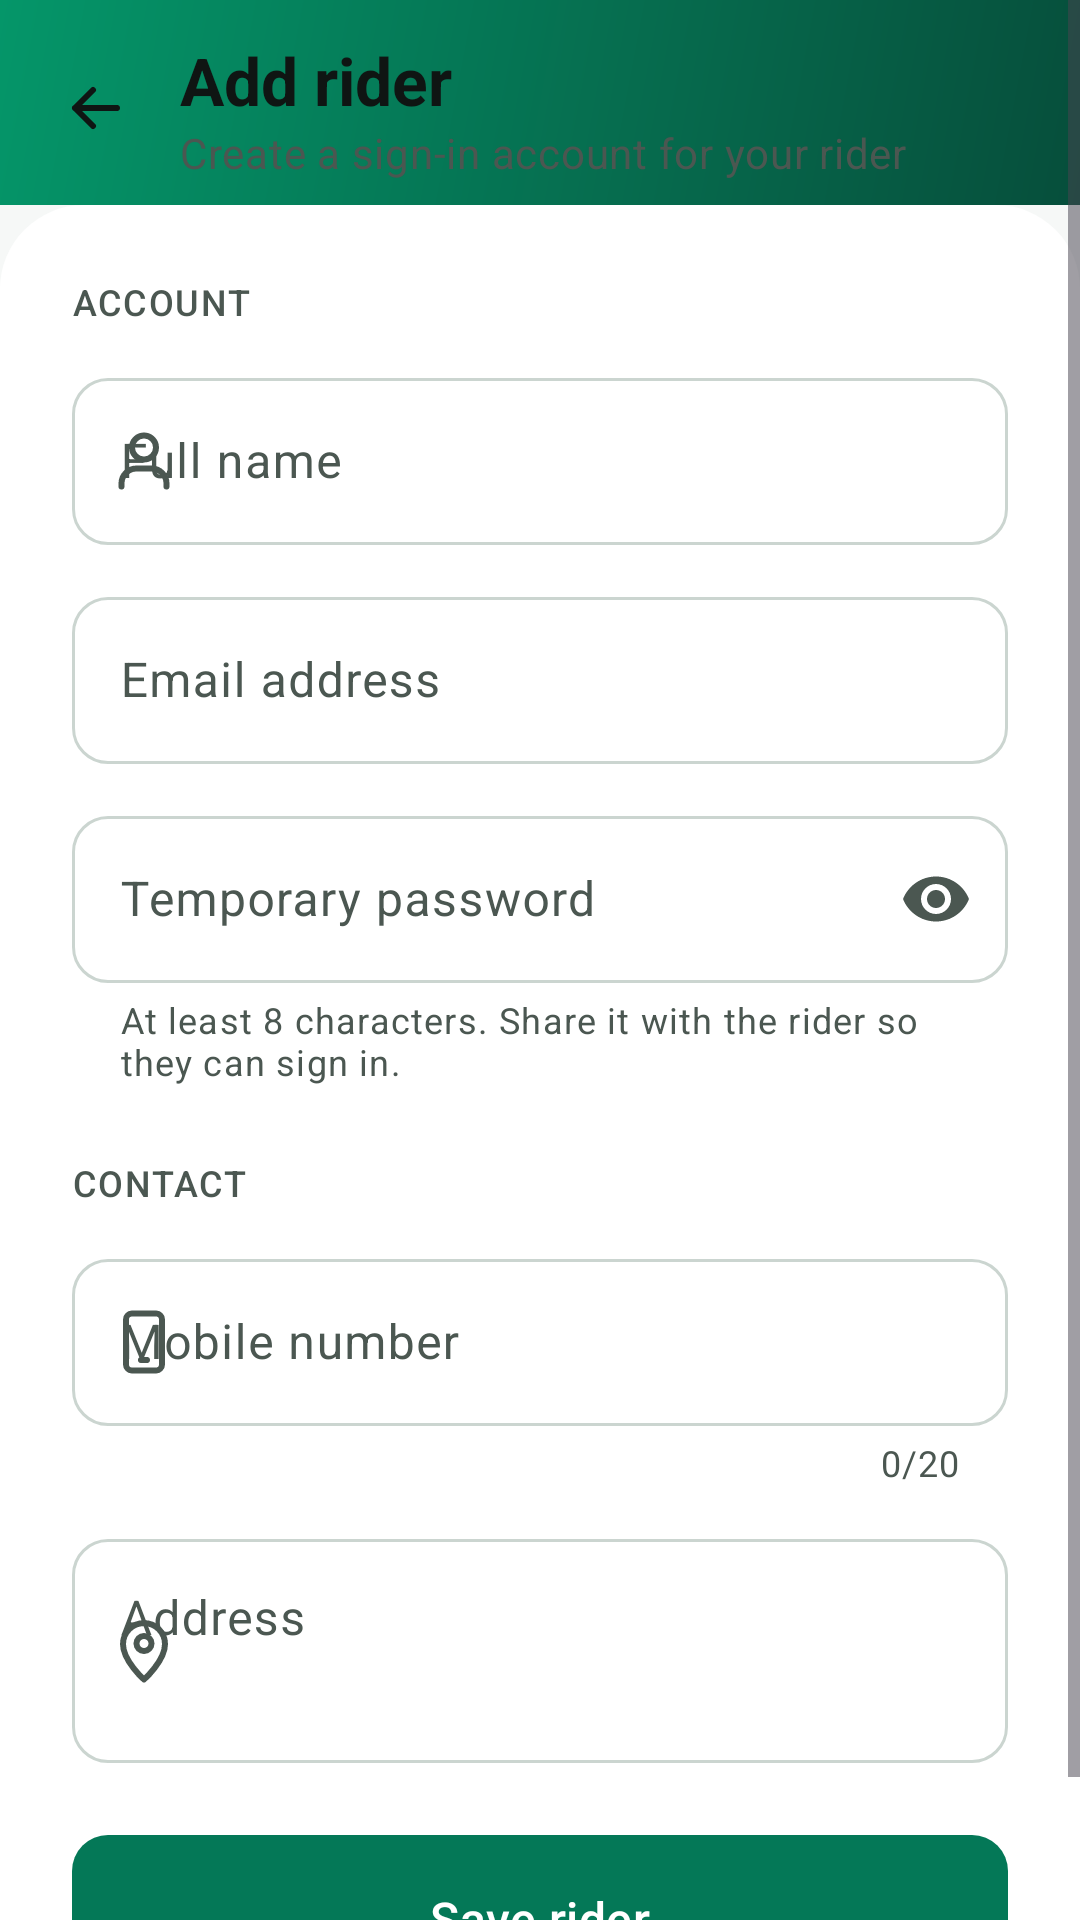

Where icons sit on this 1080*1920 app screen, as (x1, y1, x2, y2):
Back: (72, 87, 120, 129)
